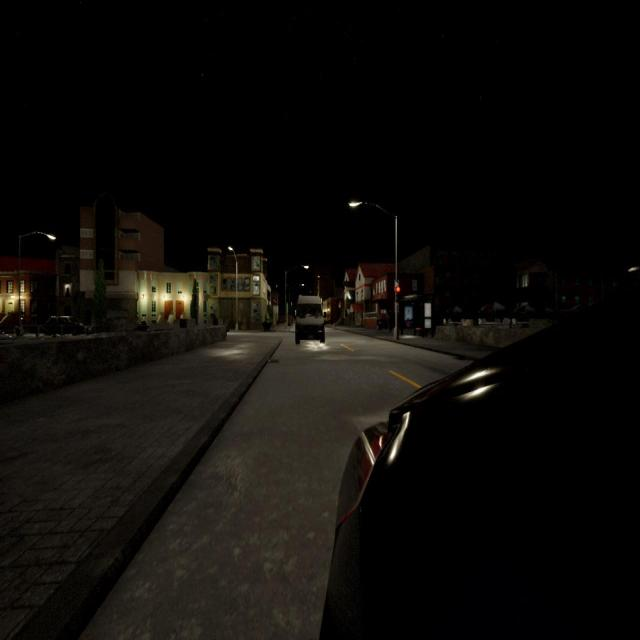Vehicle: (320, 285, 640, 637), (295, 295, 325, 344)
traffic_light: (395, 286, 401, 303)
